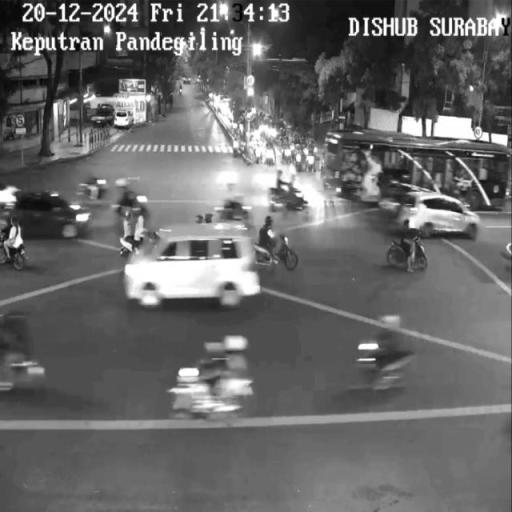bus: (324, 131, 510, 214)
car: (139, 218, 270, 311), (14, 178, 94, 239), (405, 191, 482, 239)
motorcycle: (178, 334, 250, 424), (356, 308, 428, 396), (9, 307, 50, 395), (254, 211, 300, 279), (384, 234, 432, 275), (126, 184, 158, 240), (216, 178, 254, 220), (274, 166, 308, 212), (2, 211, 28, 271), (82, 167, 114, 206)
